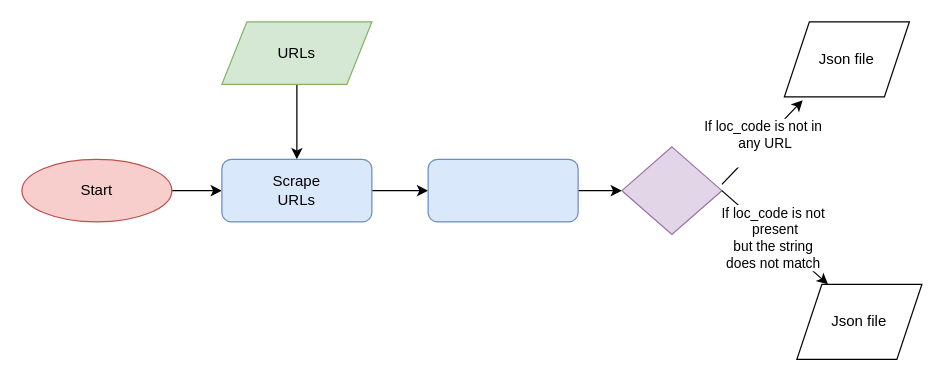
Some shapes in this 944 by 381 pixel diagram are drawn without their labels. The shapes that lost their labels are listed below. From the top down, each one's centre as x and y in pixels, then its label:
At [502,190]: "Creates Dictonary".
At [671,190]: "Comparing".
